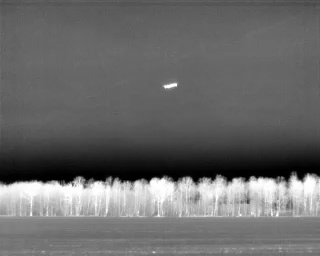DRONE: (160, 78, 182, 94)
